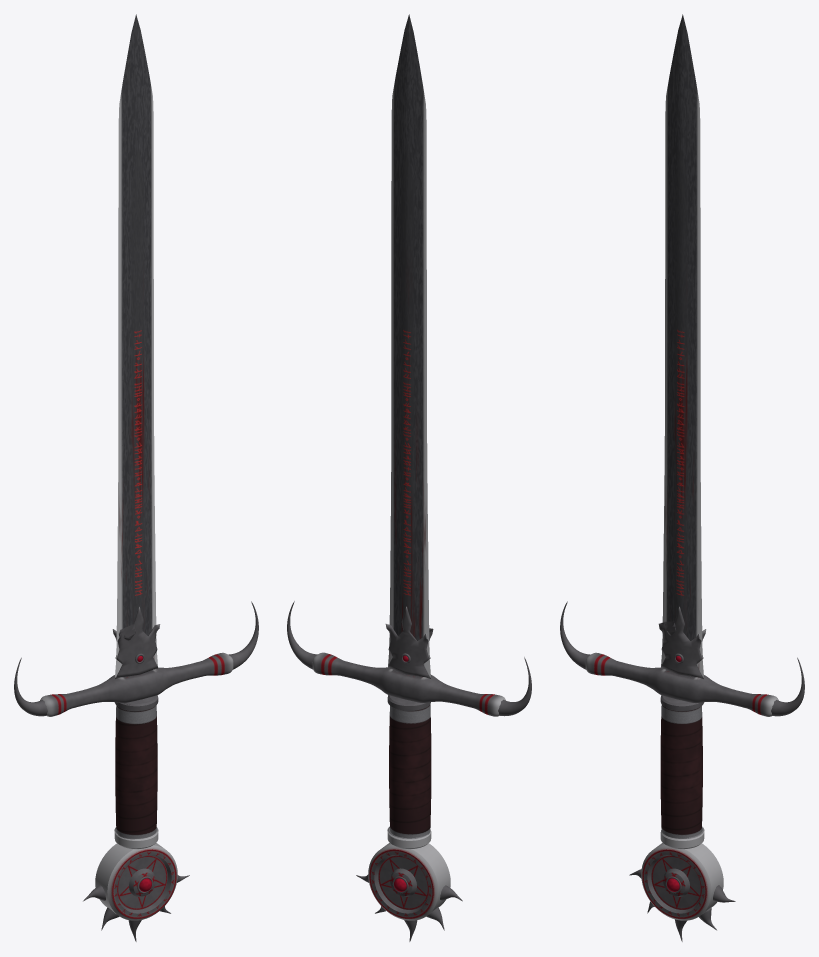
The model's file is w3_sword_vamp.fbx.
3 views of the same model, side by side, from view 1: azimuth 30°, elevation 25°; view 2: azimuth 150°, elevation 25°; view 3: azimuth 330°, elevation 25° (orthographic).
Parts seen in each view (by area): view 1: w3_sword_vamp; view 2: w3_sword_vamp; view 3: w3_sword_vamp.
Boxes of the visible parts, x1,y1,x2,y2 form: w3_sword_vamp: (14, 14, 258, 941); w3_sword_vamp: (287, 14, 531, 941); w3_sword_vamp: (560, 14, 804, 941).
Bounding box in the file's own units: 34.69 × 5.7 × 126.
